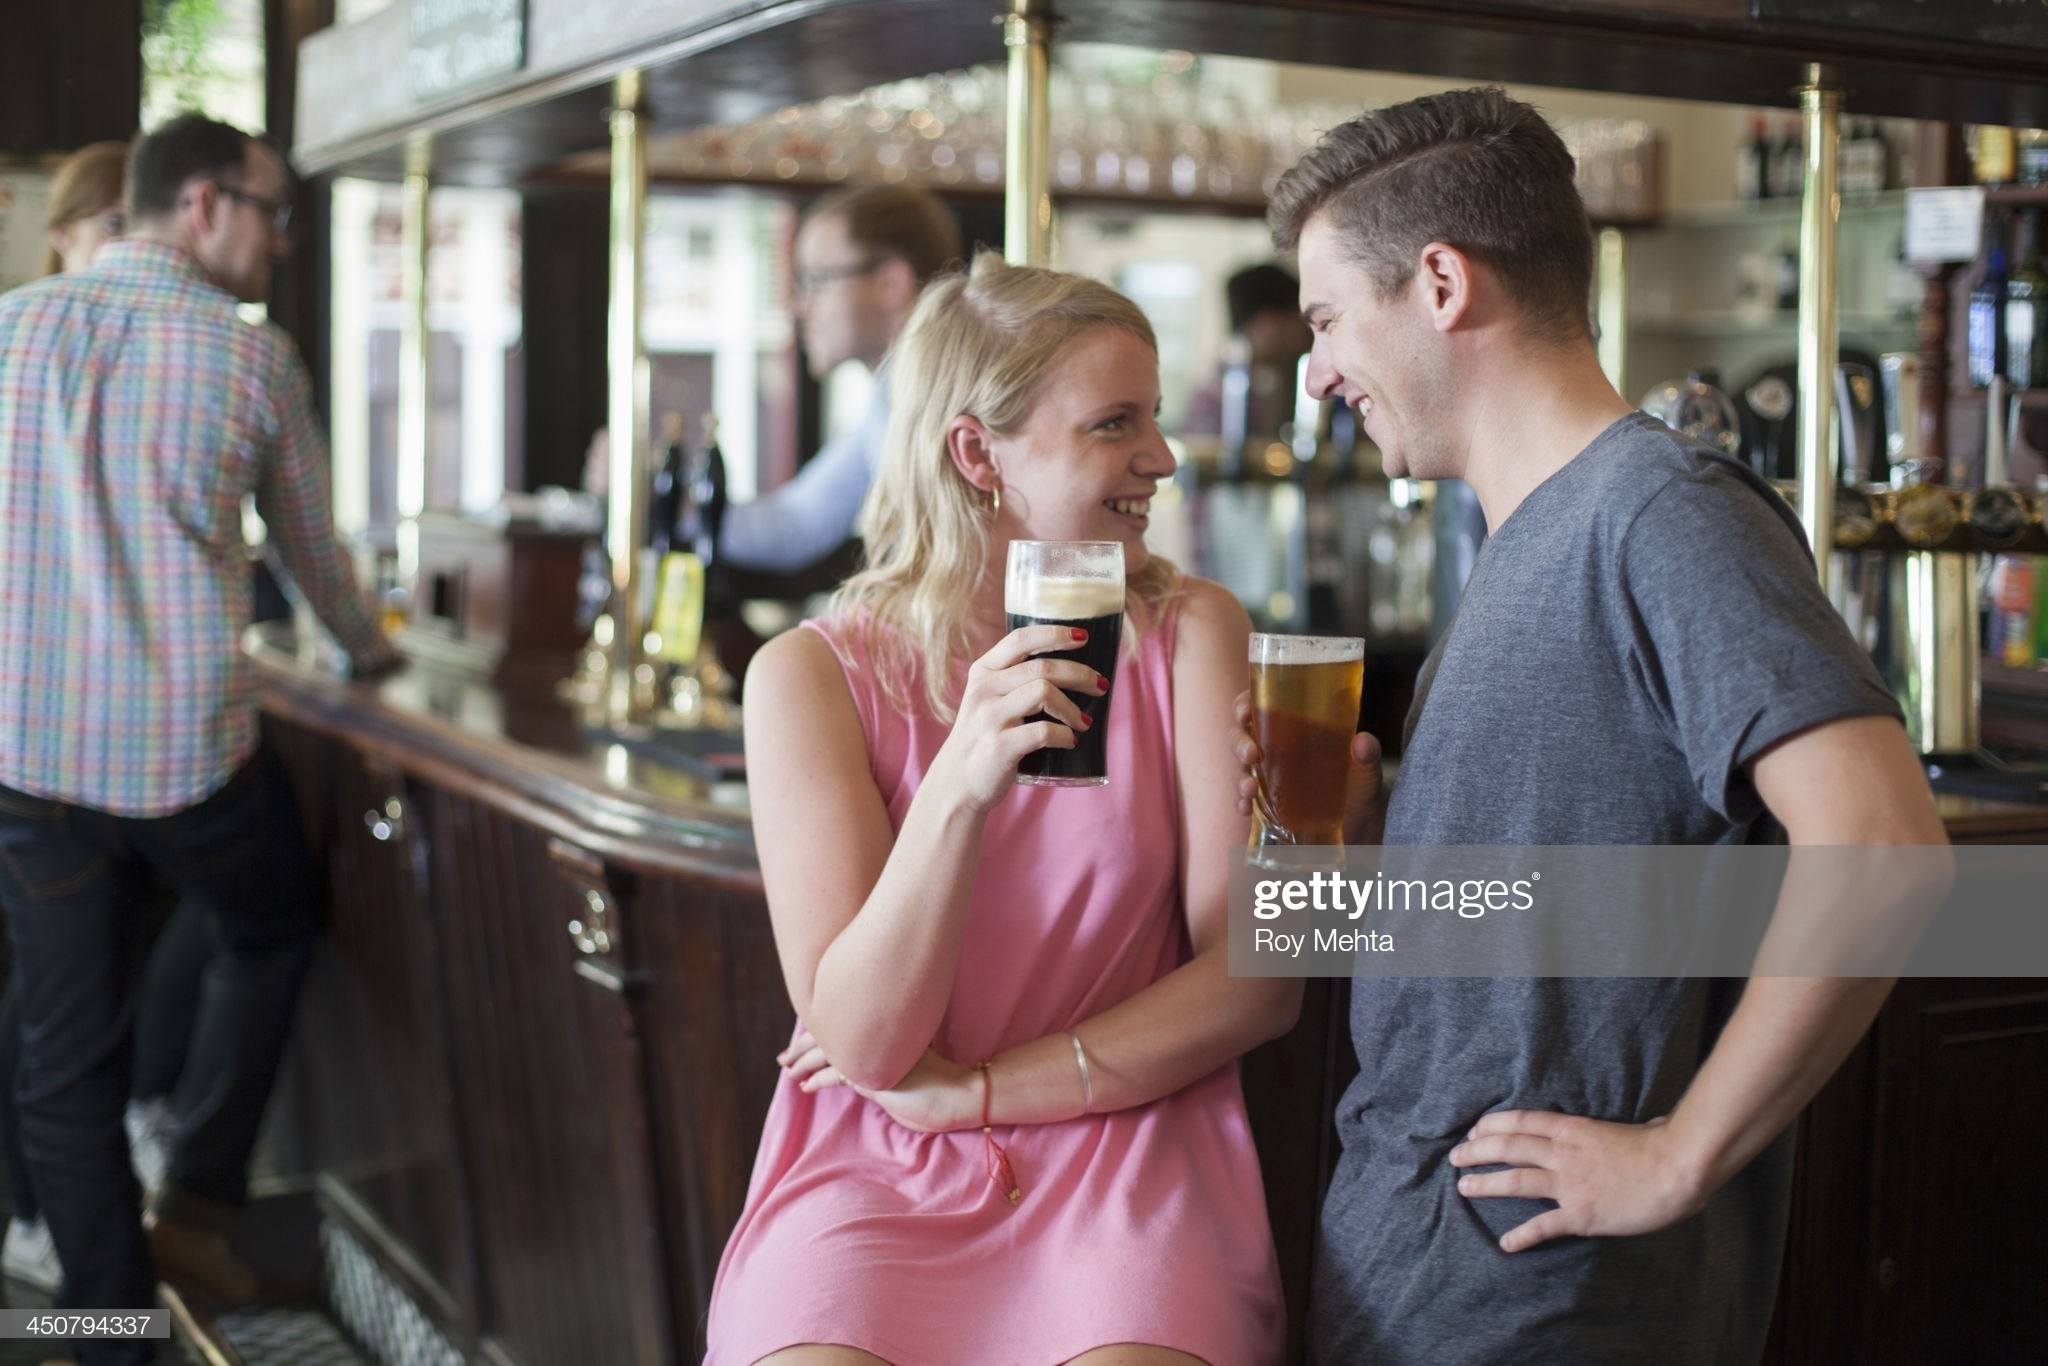whiskey: (1233, 627, 1378, 903), (987, 538, 1141, 797)
